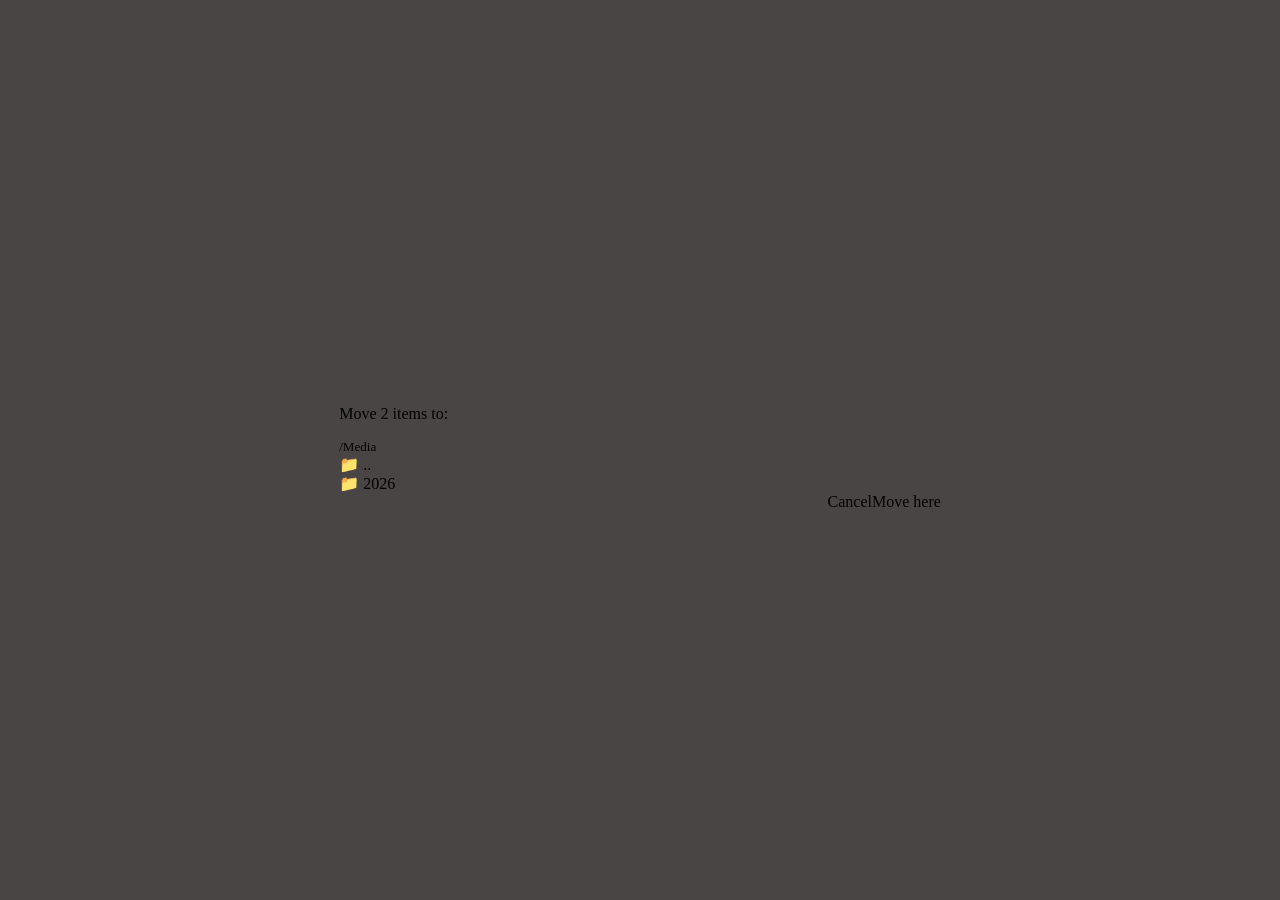
Scenario: FolderPicker › descends into a subfolder and steps back up
Click the button "📁 2026" at [379, 484], box 339,474 -> 941,493
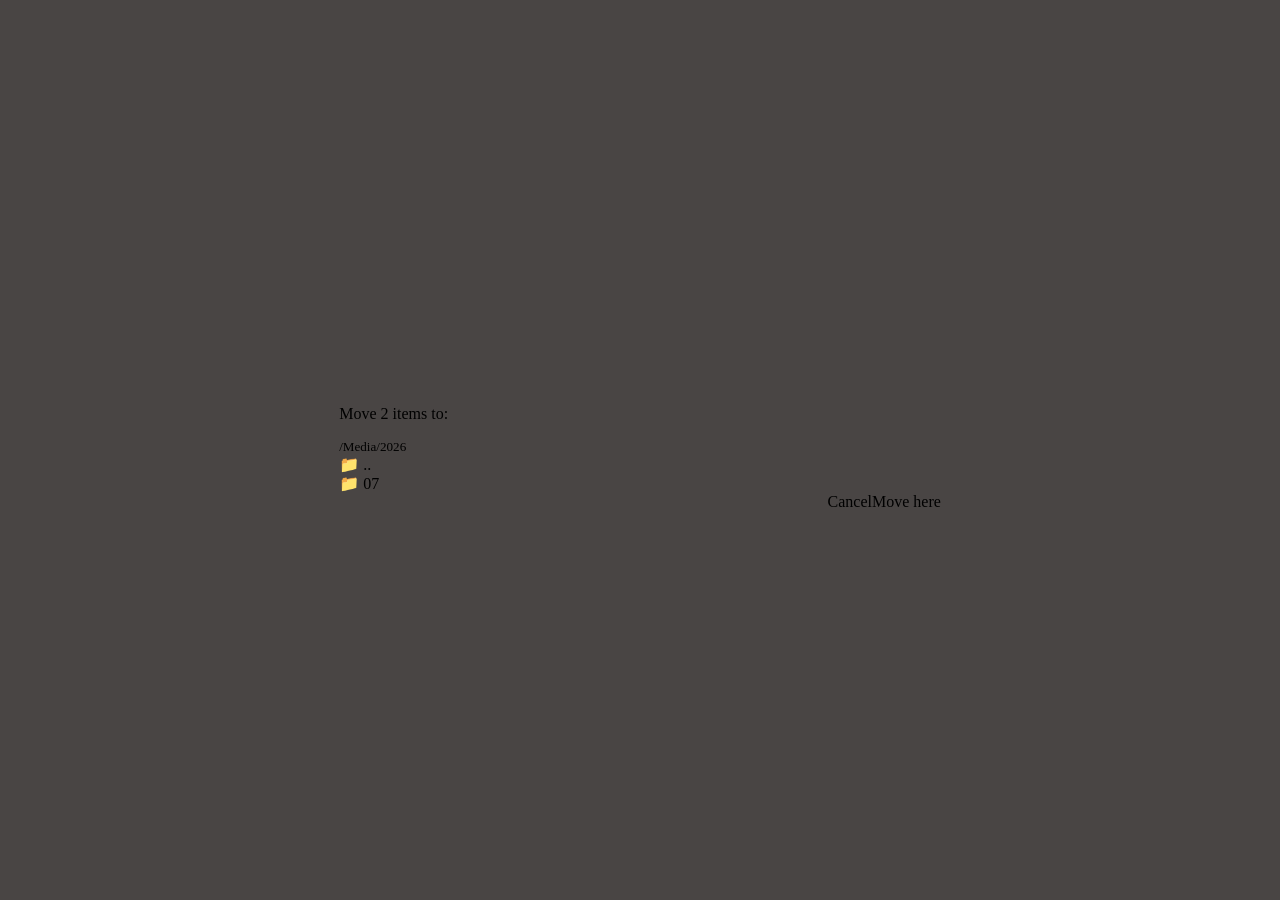
Now the button "📁 07" is shown, box 339,474 -> 941,493
Click the button "Move here" at [906, 502], box 872,493 -> 941,511
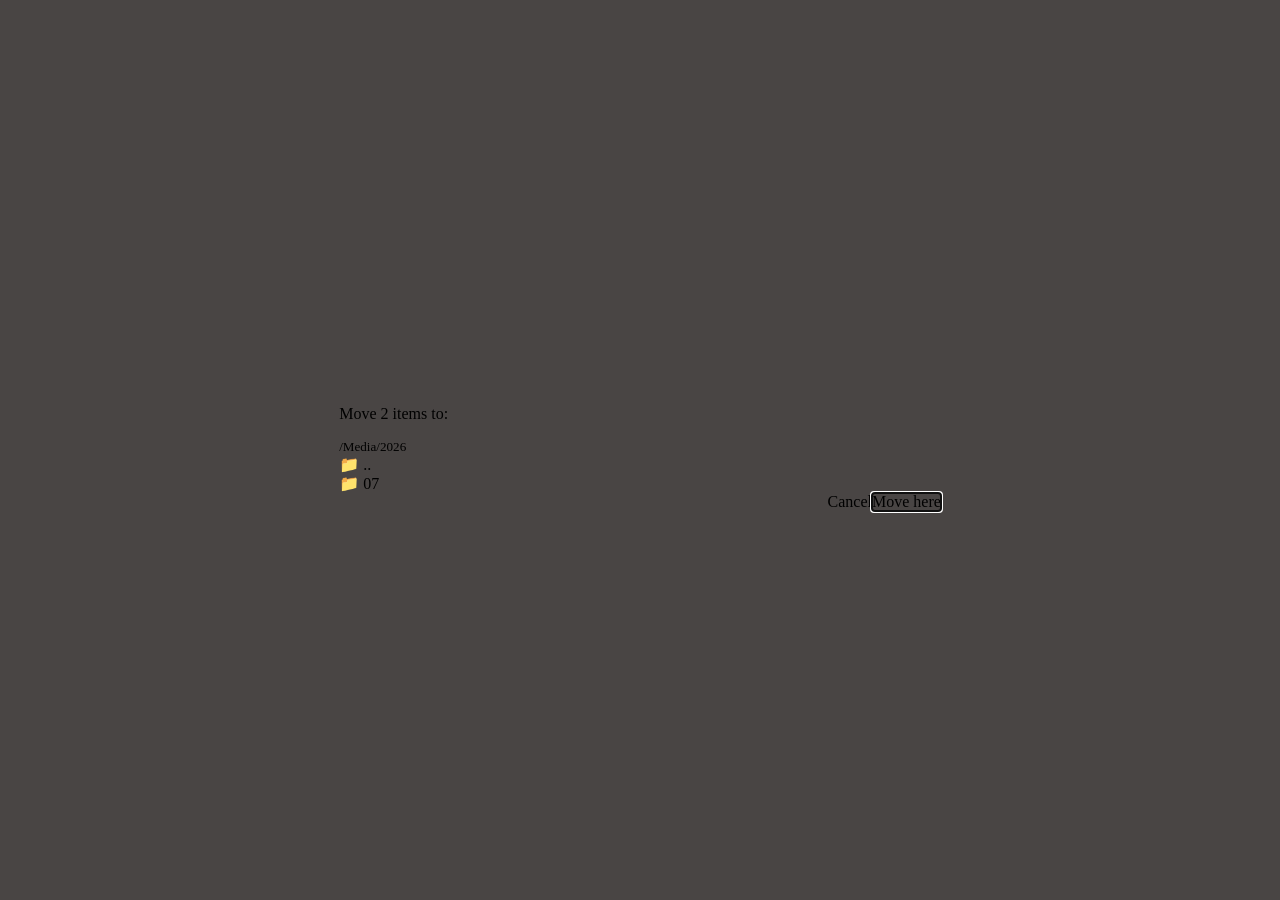
# The ".." row climbs back to /Media.
Click the button "📁 .." at [355, 464], box 339,455 -> 941,474
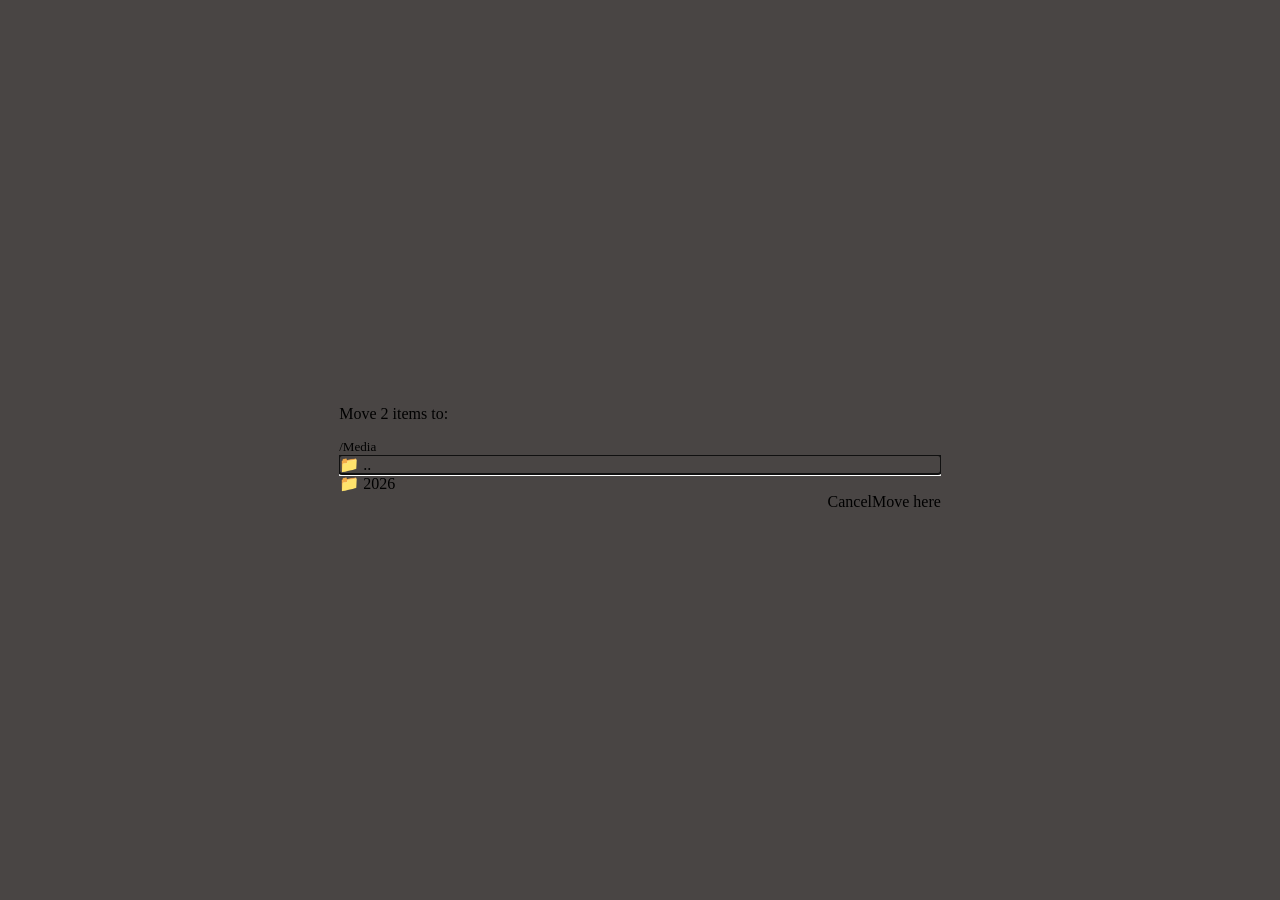
Now the button "📁 2026" is shown, box 339,474 -> 941,493
